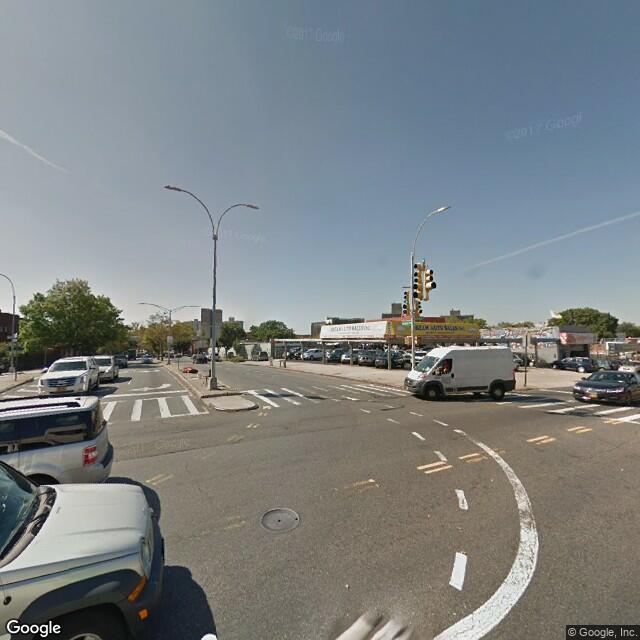litter: (183, 364, 198, 374)
